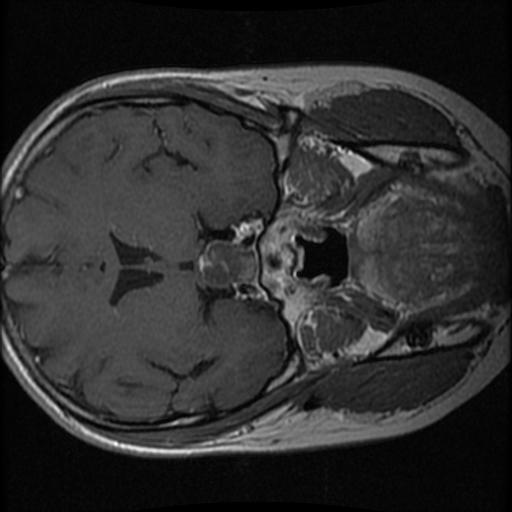pituitary tumour: (195, 241, 256, 287)
